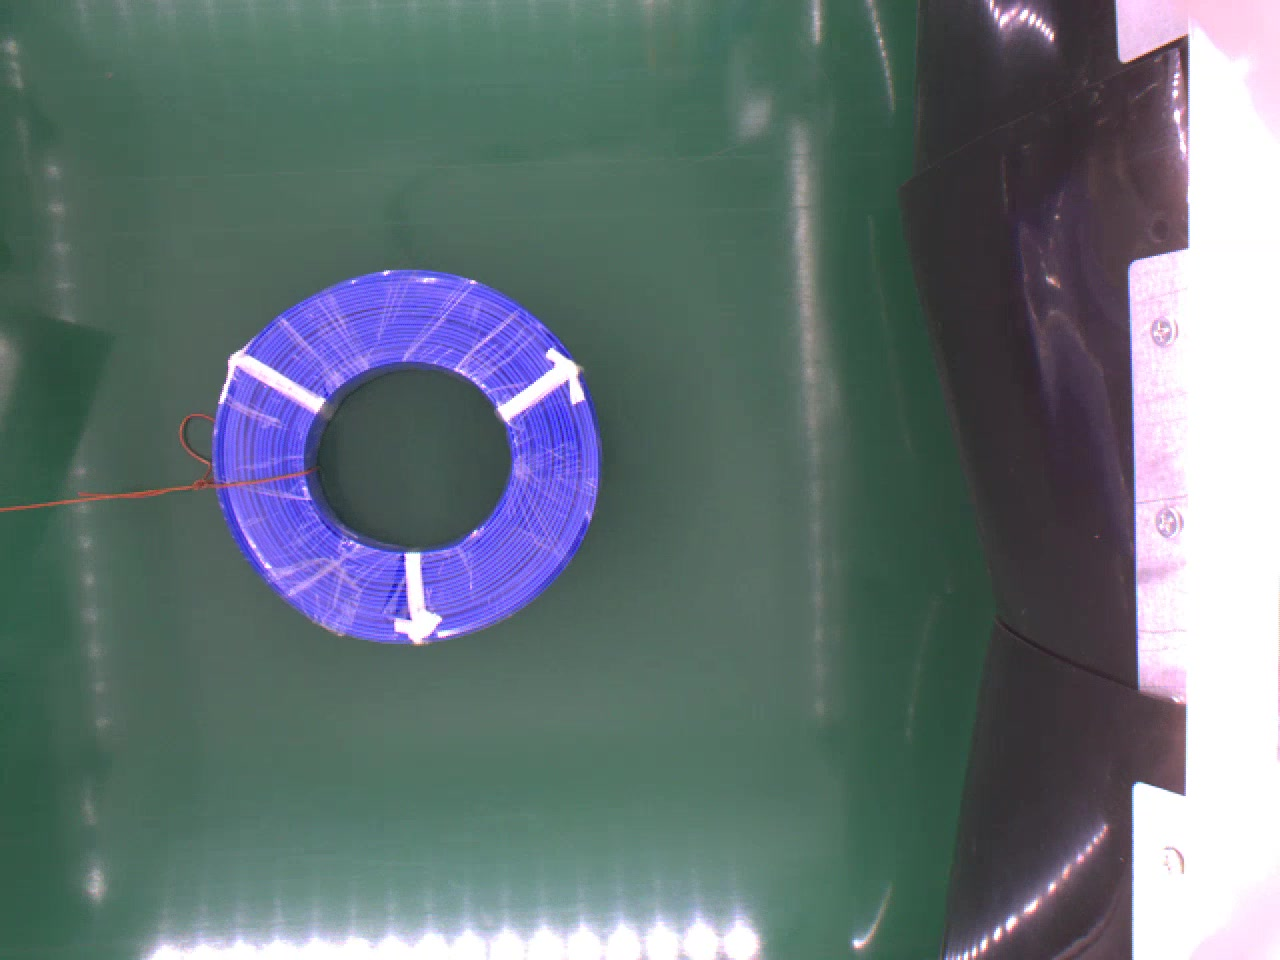blue: (210, 266, 605, 646)
